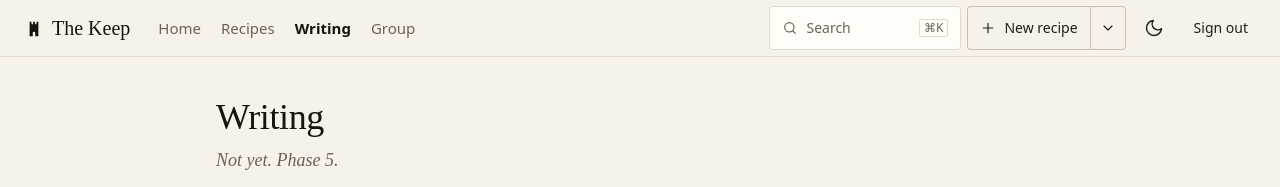
Test: the top bar › splits New by type: the main button makes the current type, the caret lists them all
Check: the heading "Writing" is shown, box x1=216 y1=97 x2=324 y2=137
Click the button named "New…".
click(1108, 28)  # box x1=1090 y1=6 x2=1126 y2=50
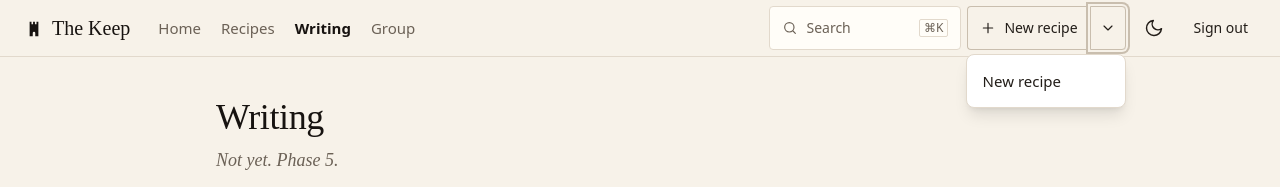
Press Escape
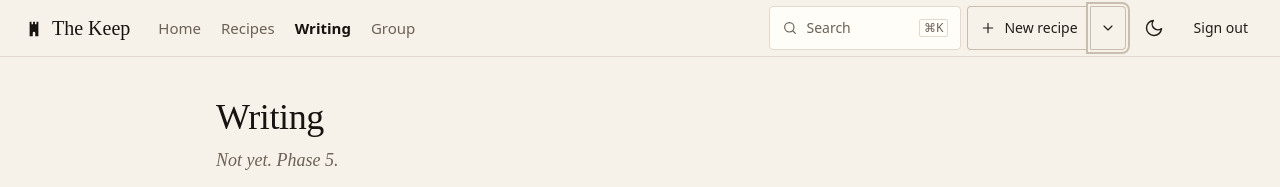
Check: the menu is gone
